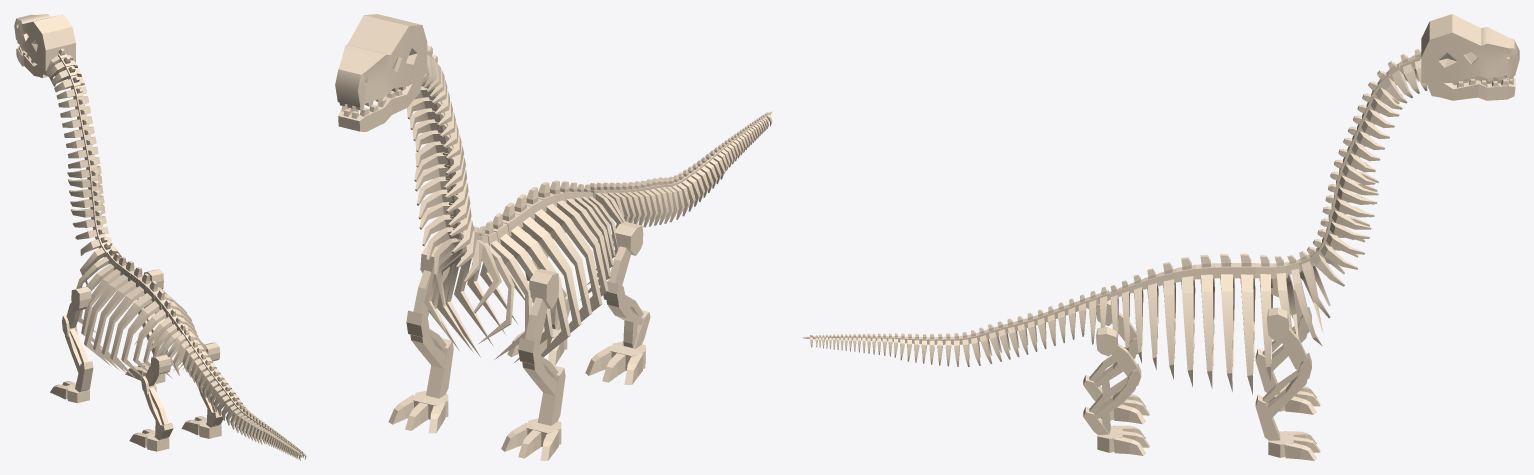
File: barosaurus_skeleton_fossil.obj
3 views of the same model, side by side, from view 1: azimuth 30°, elevation 25°; view 2: azimuth 150°, elevation 25°; view 3: azimuth 270°, elevation 25° (orthographic). The views are drawn at different scales.
Parts seen in each view (by area): view 1: Torso, Meshes/set_12_Barosaurus_Skeleton_028, Head, Meshes/set_12_Barosaurus_Skeleton_029, Meshes/set_12_Barosaurus_Skeleton_024, Meshes/set_12_Barosaurus_Skeleton_025, Meshes/set_12_Barosaurus_Skeleton_022, Neck, Meshes/set_12_Barosaurus_Skeleton_023, Meshes/set_12_Barosaurus_Skeleton_036, Tail, Meshes/set_12_Barosaurus_Skeleton_021 (+10 smaller); view 2: Torso, Head, Meshes/set_12_Barosaurus_Skeleton_028, Neck, Meshes/set_12_Barosaurus_Skeleton_025, Meshes/set_12_Barosaurus_Skeleton_024, Meshes/set_12_Barosaurus_Skeleton_023, Meshes/set_12_Barosaurus_Skeleton_010, Meshes/set_12_Barosaurus_Skeleton_019, Meshes/set_12_Barosaurus_Skeleton_009, Meshes/set_12_Barosaurus_Skeleton_036, LeftArm (+17 smaller); view 3: Head, Torso, Meshes/set_12_Barosaurus_Skeleton_028, Neck, Meshes/set_12_Barosaurus_Skeleton_025, Meshes/set_12_Barosaurus_Skeleton_024, Meshes/set_12_Barosaurus_Skeleton_036, Meshes/set_12_Barosaurus_Skeleton_022, Meshes/set_12_Barosaurus_Skeleton_029, Meshes/set_12_Barosaurus_Skeleton_023, Meshes/set_12_Barosaurus_Skeleton_011, RightArm (+10 smaller).
Part boxes in pixels (bbox=[...]): Torso: bbox=[78, 253, 177, 374]; Meshes/set_12_Barosaurus_Skeleton_028: bbox=[110, 281, 196, 378]; Head: bbox=[14, 14, 75, 78]; Meshes/set_12_Barosaurus_Skeleton_029: bbox=[153, 317, 208, 378]; Meshes/set_12_Barosaurus_Skeleton_024: bbox=[67, 157, 103, 198]; Meshes/set_12_Barosaurus_Skeleton_025: bbox=[70, 195, 108, 239]; Meshes/set_12_Barosaurus_Skeleton_022: bbox=[54, 75, 90, 118]; Neck: bbox=[76, 235, 127, 288]; Meshes/set_12_Barosaurus_Skeleton_023: bbox=[62, 116, 98, 158]; Meshes/set_12_Barosaurus_Skeleton_036: bbox=[213, 386, 254, 435]; Tail: bbox=[182, 341, 216, 387]; Meshes/set_12_Barosaurus_Skeleton_021: bbox=[44, 48, 81, 86]; Torso: bbox=[428, 187, 591, 362]; Head: bbox=[335, 14, 427, 131]; Meshes/set_12_Barosaurus_Skeleton_028: bbox=[480, 180, 613, 323]; Neck: bbox=[424, 225, 514, 343]; Meshes/set_12_Barosaurus_Skeleton_025: bbox=[418, 189, 476, 268]; Meshes/set_12_Barosaurus_Skeleton_024: bbox=[414, 141, 468, 212]; Meshes/set_12_Barosaurus_Skeleton_023: bbox=[407, 97, 461, 159]; Meshes/set_12_Barosaurus_Skeleton_010: bbox=[585, 341, 645, 384]; Meshes/set_12_Barosaurus_Skeleton_019: bbox=[501, 418, 561, 460]; Meshes/set_12_Barosaurus_Skeleton_009: bbox=[388, 390, 448, 433]; Meshes/set_12_Barosaurus_Skeleton_036: bbox=[652, 169, 700, 224]; LeftArm: bbox=[525, 269, 558, 344]; Head: bbox=[1421, 14, 1519, 100]; Torso: bbox=[1195, 253, 1298, 394]; Meshes/set_12_Barosaurus_Skeleton_028: bbox=[1130, 257, 1195, 387]; Neck: bbox=[1287, 246, 1344, 346]; Meshes/set_12_Barosaurus_Skeleton_025: bbox=[1313, 206, 1371, 269]; Meshes/set_12_Barosaurus_Skeleton_024: bbox=[1325, 159, 1378, 217]; Meshes/set_12_Barosaurus_Skeleton_036: bbox=[944, 321, 1010, 366]; Meshes/set_12_Barosaurus_Skeleton_022: bbox=[1357, 70, 1407, 127]; Meshes/set_12_Barosaurus_Skeleton_029: bbox=[1087, 280, 1130, 350]; Meshes/set_12_Barosaurus_Skeleton_023: bbox=[1338, 114, 1389, 172]; Meshes/set_12_Barosaurus_Skeleton_011: bbox=[1097, 425, 1149, 455]; RightArm: bbox=[1267, 307, 1306, 369].
Bounding box in the file's own units: 7.1 × 20.56 × 32.88.
